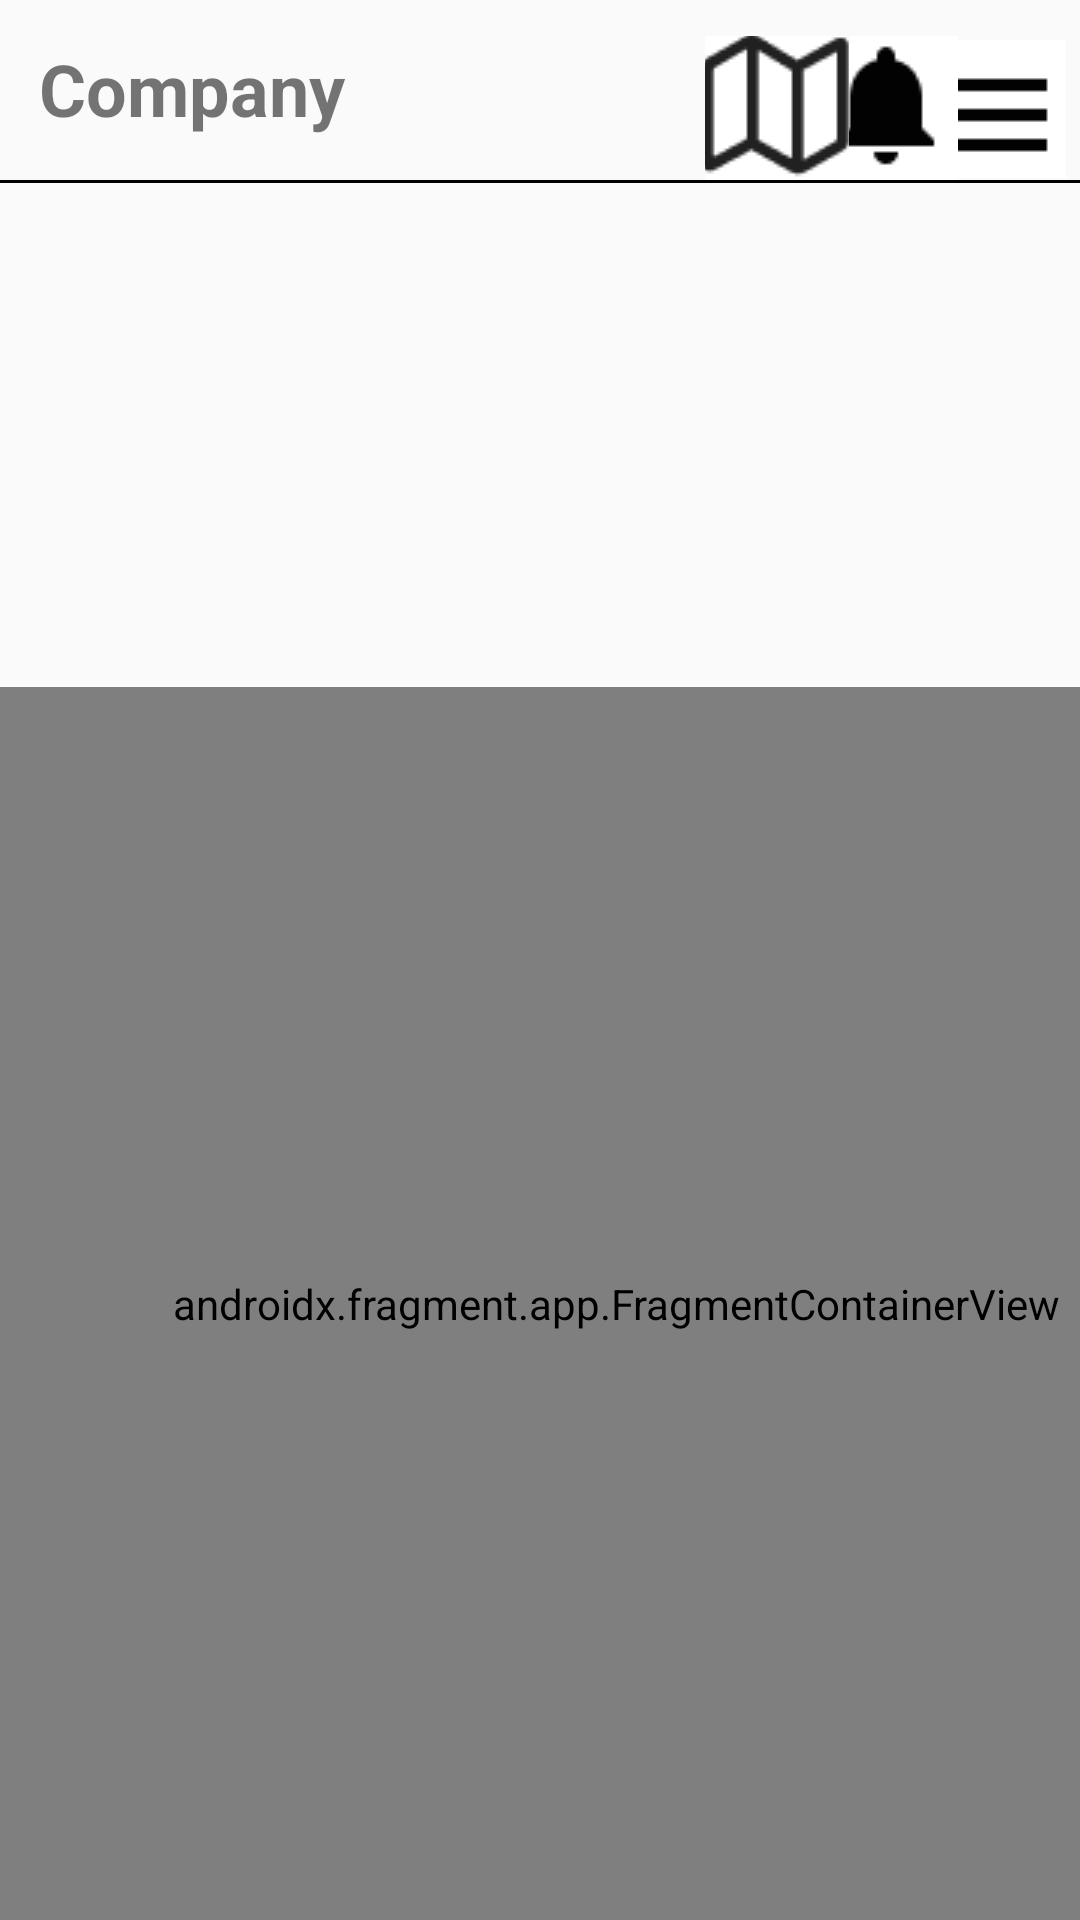

Icon click points for this 1080px x 1920px phone screenshot, format (x=x, y=y):
map: (x=777, y=106)
menu: (x=1003, y=115)
notifcation: (x=874, y=102)
